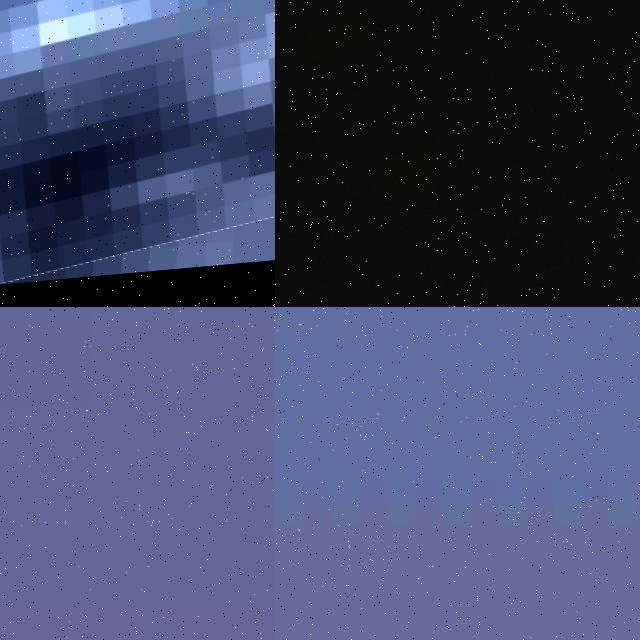0: (0, 0, 275, 307)
drone: (275, 0, 640, 307)
